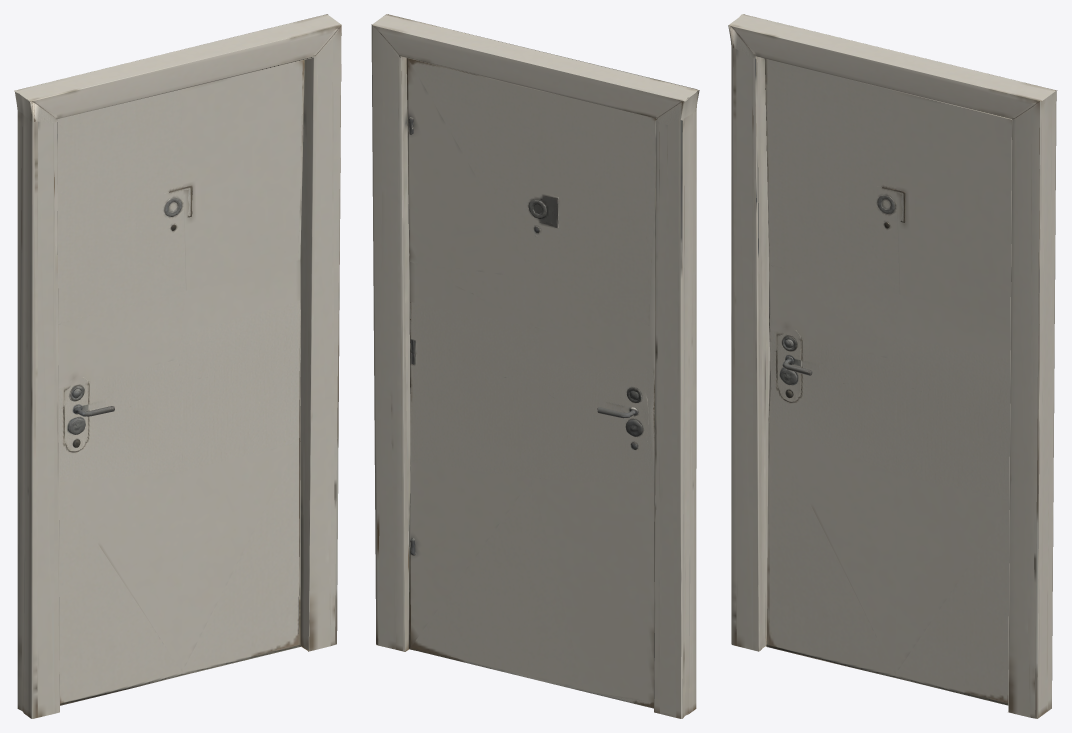
Rendered from Meshy_AI_motel_room_door_with__0904014925_texture.glb.
3 renders of one model, left to right at view 1: azimuth 30°, elevation 25°; view 2: azimuth 150°, elevation 25°; view 3: azimuth 330°, elevation 25°, orthographic.
Parts seen in each view (by area): view 1: mesh_node; view 2: mesh_node; view 3: mesh_node.
Boxes of the visible parts, x1,y1,x2,y2 form: mesh_node: (14,14,341,718); mesh_node: (371,14,699,718); mesh_node: (728,14,1057,718).
Bounding box in the file's own units: 0.5332 × 1 × 0.0624.
Materials: 1 (1 with a texture image).
